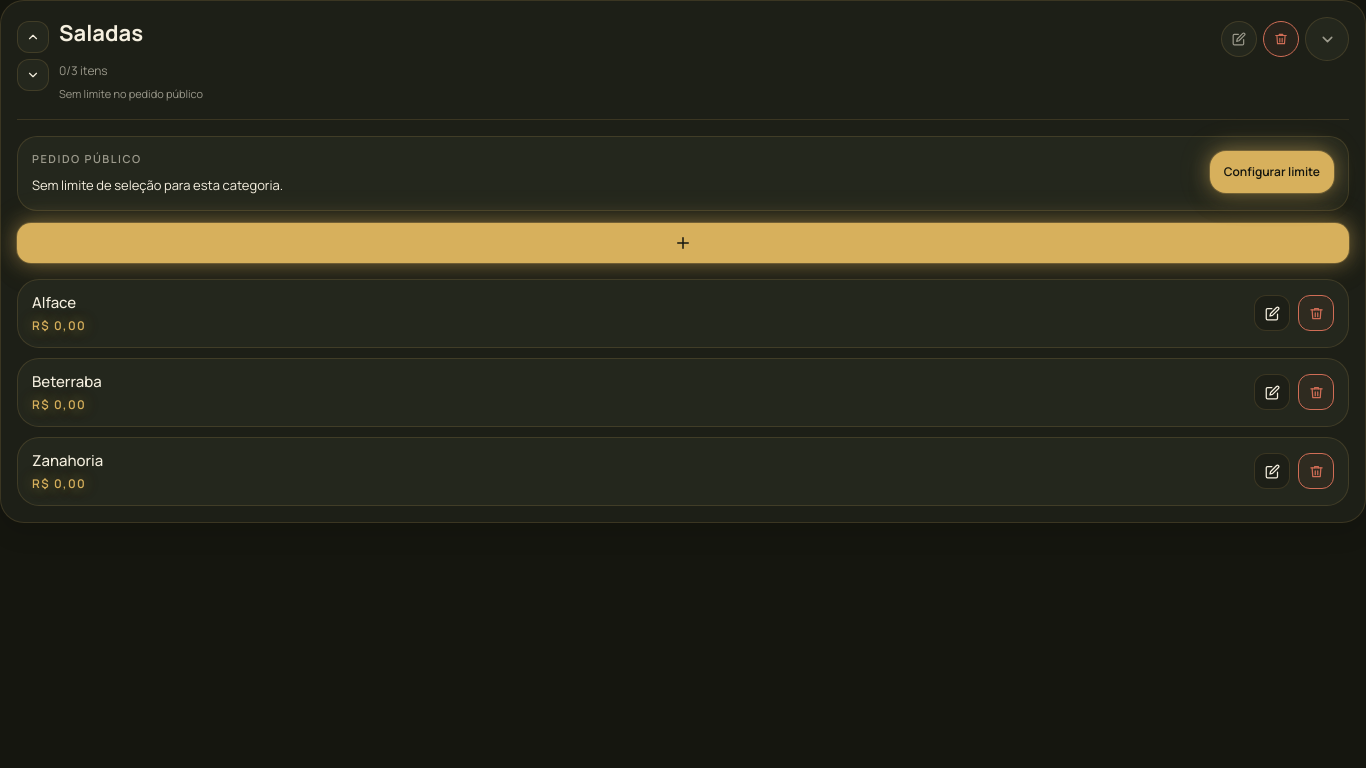
Test: CategoryCard › adds an item from the manage sheet and closes it
The width and height of the screenshot is (1366, 768).
Click the button named "Adicionar item em Saladas" at point(683, 243), box [17,223,1349,263]
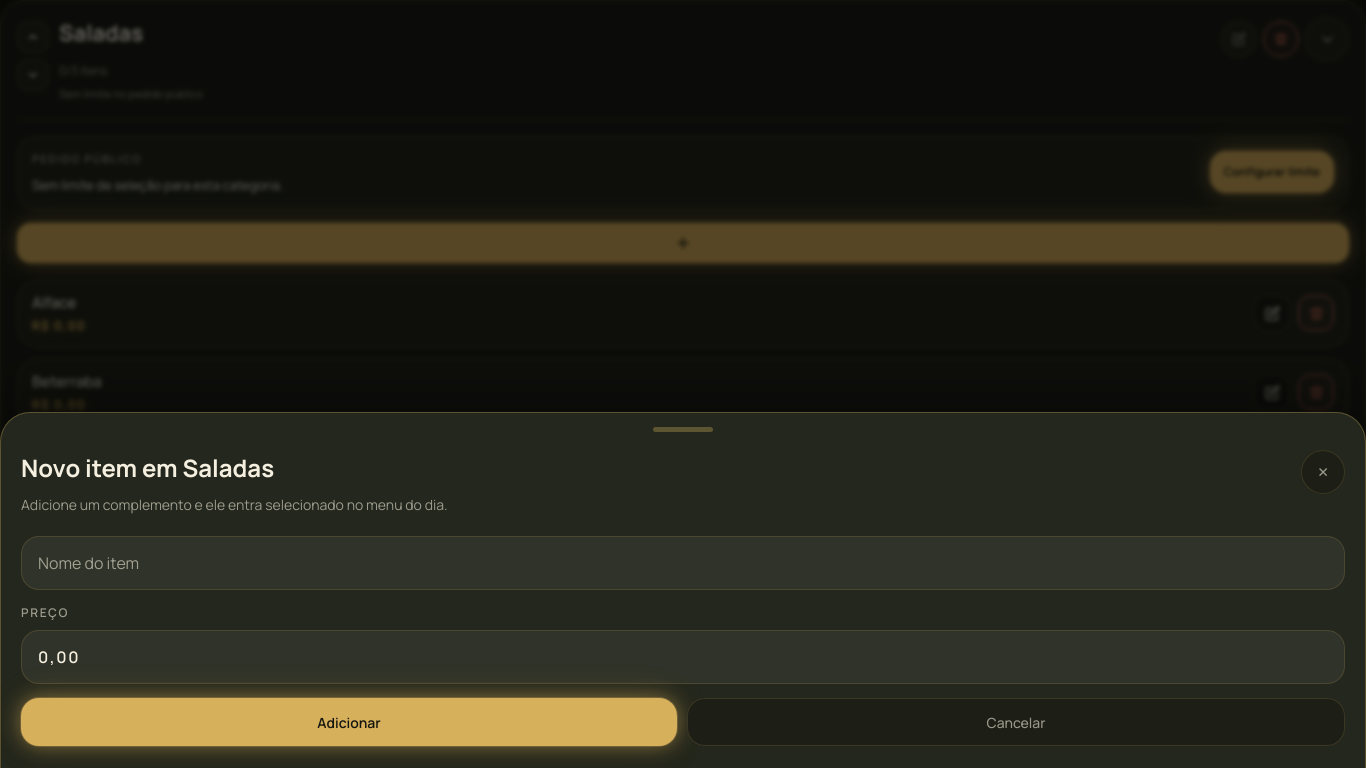
Type "Tomate" into the field with placeholder "Nome do item" at point(683, 563), box [21,536,1345,590]
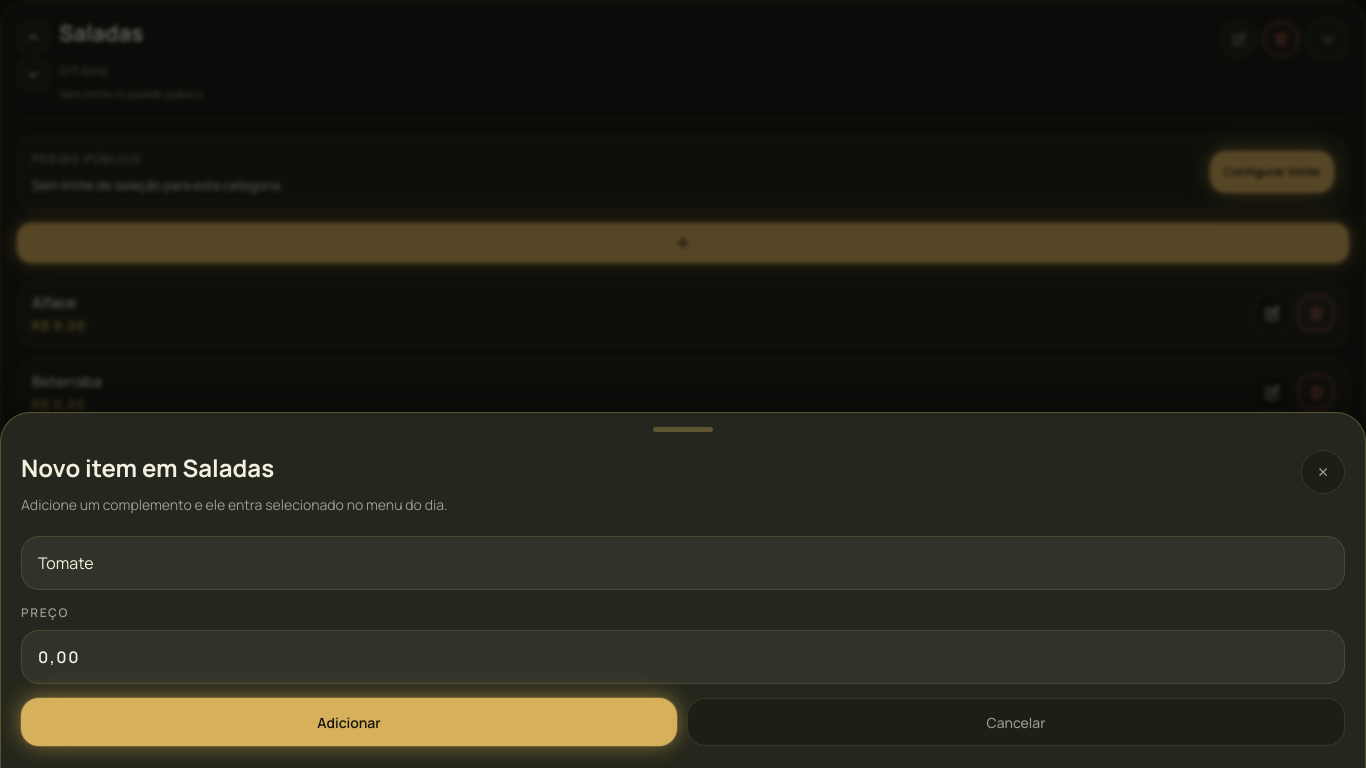
Type "450" into the field with placeholder "0,00" at point(683, 657), box [21,630,1345,684]
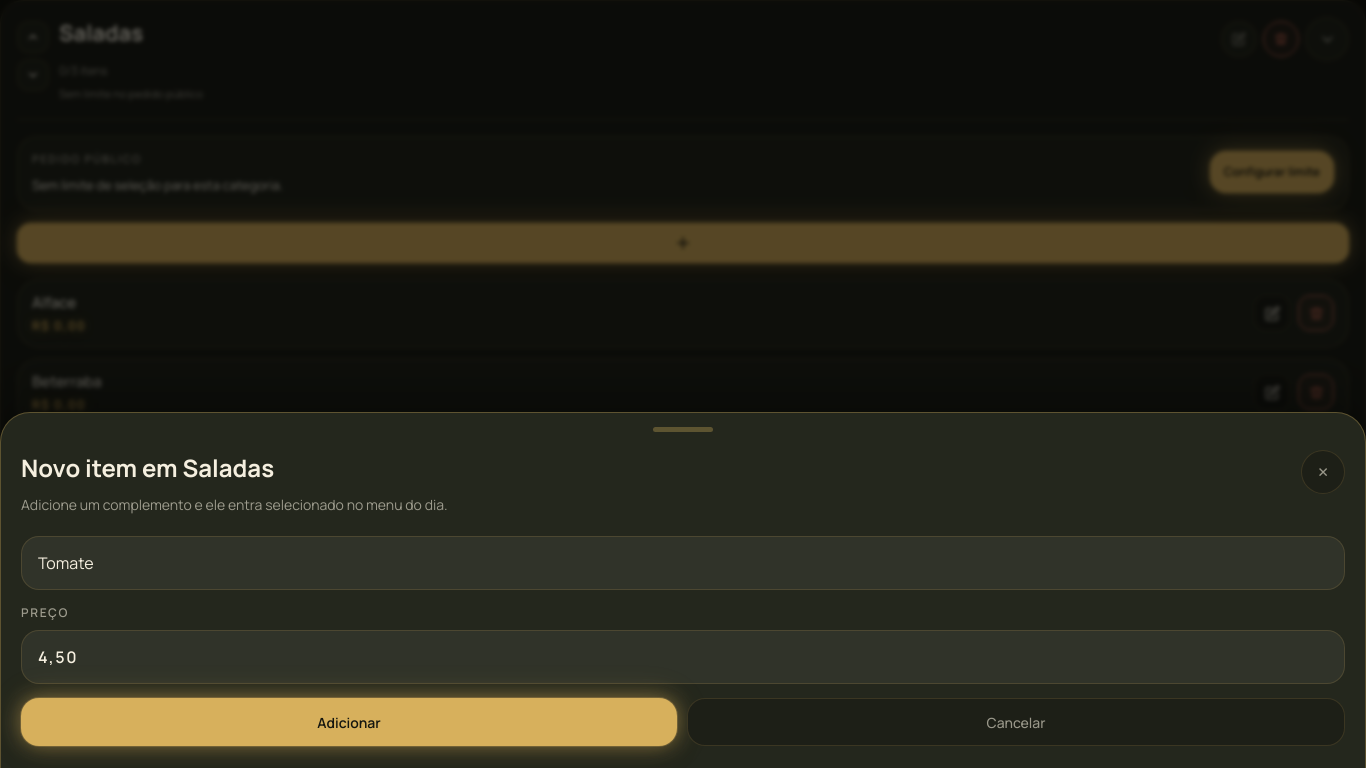
Click the button "Adicionar" at point(349, 722), box [21,698,677,746]
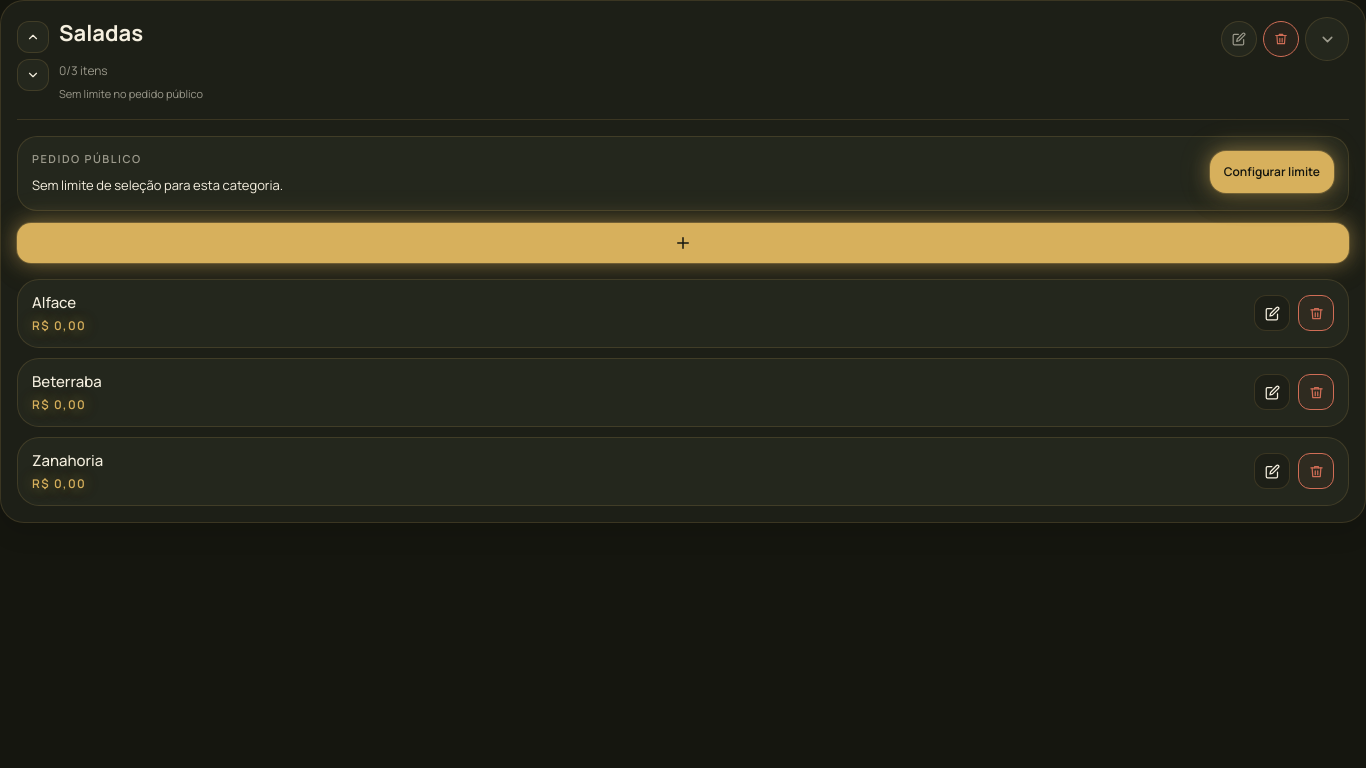
Now the heading "Novo item em Saladas" is gone
